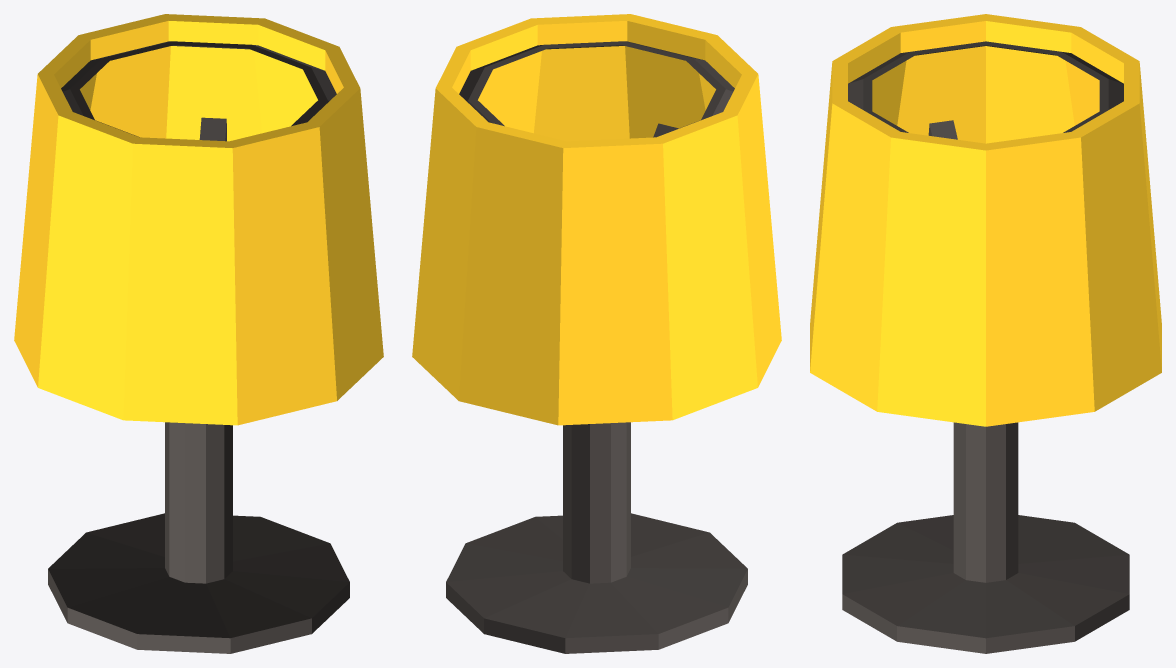
The model's file is Lamp 2.fbx.
3 views of the same model, side by side, from view 1: azimuth 30°, elevation 25°; view 2: azimuth 150°, elevation 25°; view 3: azimuth 270°, elevation 25° (orthographic).
Visible parts, largest first — view 1: Cylinder; view 2: Cylinder; view 3: Cylinder.
Part boxes in pixels (x1,y1,x2,y2): Cylinder: (14, 14, 383, 653); Cylinder: (412, 14, 781, 653); Cylinder: (810, 14, 1161, 653).
Bounding box in the file's own units: 0.3118 × 0.4964 × 0.3279.
